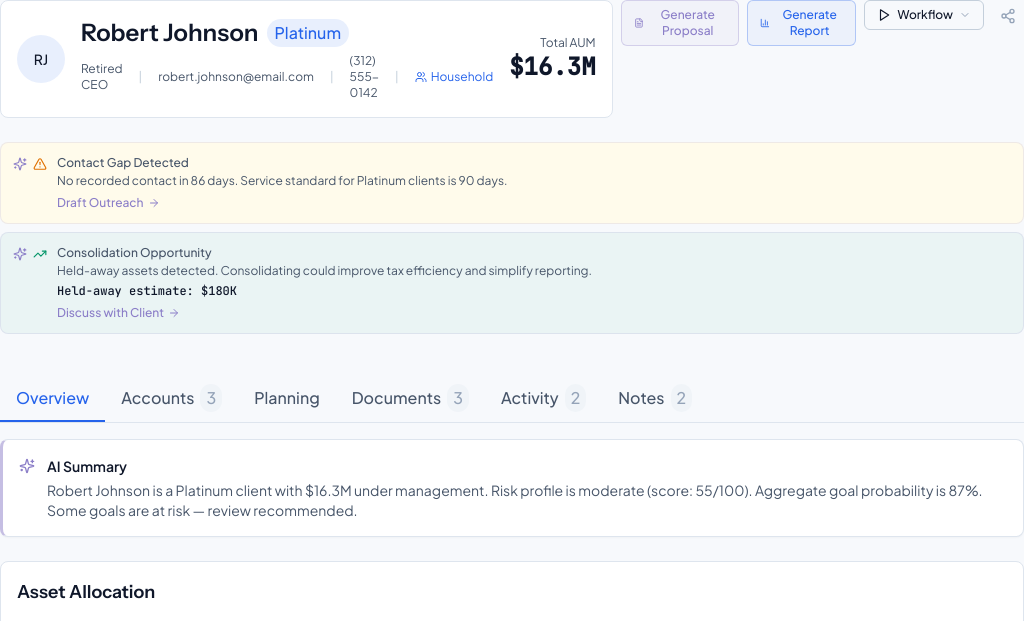
Test case: ClientDetailPage › shows account data for cli-001 on the Accounts tab
Expected: the heading "Robert Johnson" is shown, 81,17 -> 258,49
# Click the Accounts tab
Click the tab "Accounts 3".
click(172, 398)  # box 105,374 -> 238,422
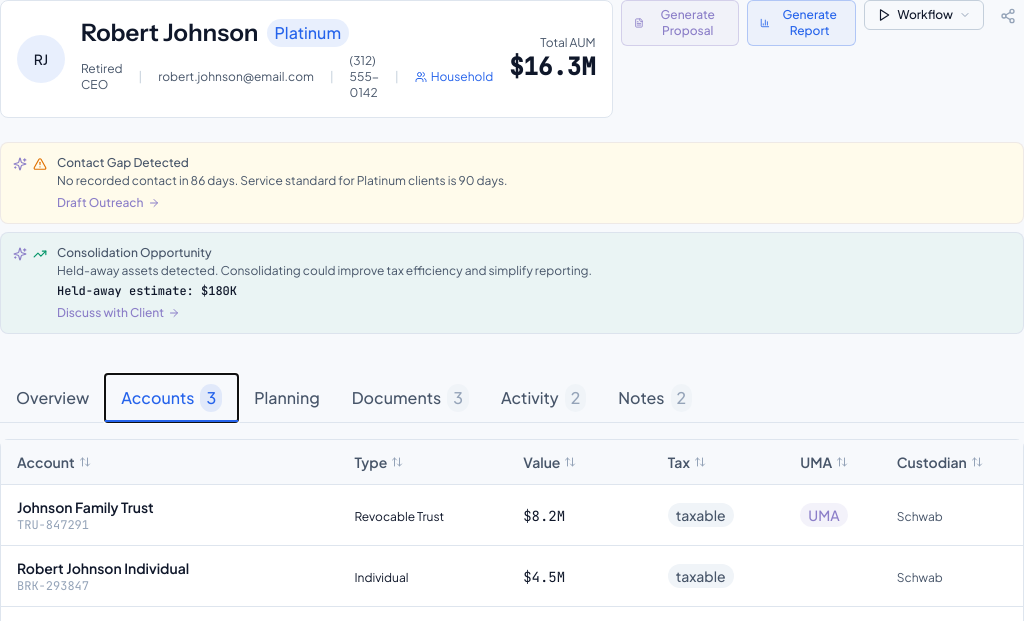
Result: the text "Johnson Family Trust" is shown at 17,498 -> 154,516
